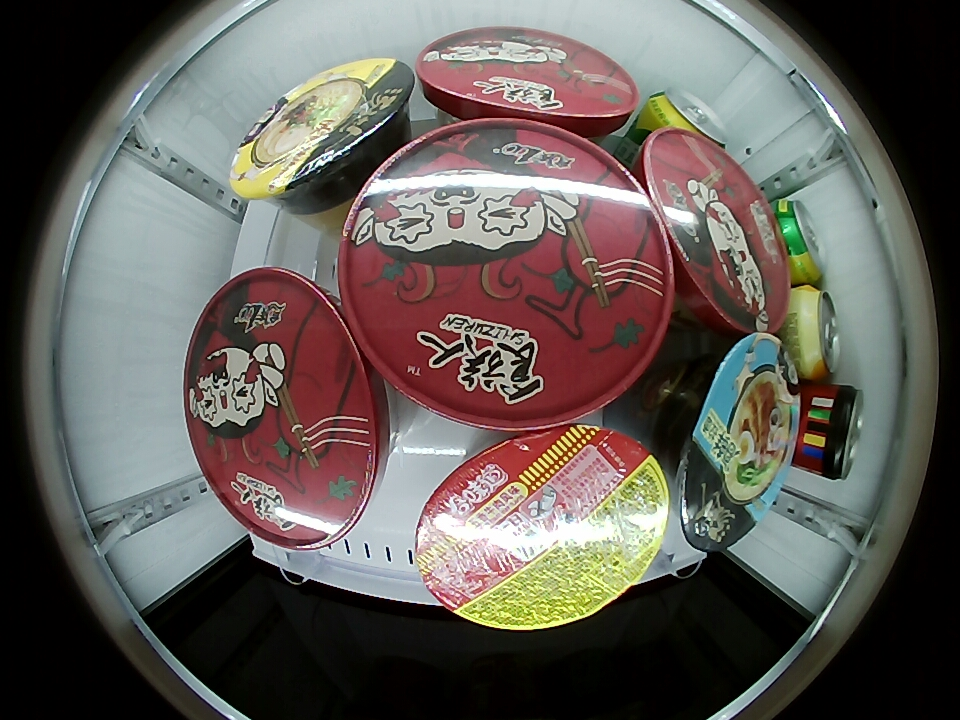heweidao3: (413, 424, 670, 630)
lingdukele: (802, 384, 863, 482)
mangguoxiaolao: (789, 286, 842, 380)
suanlafen: (339, 116, 677, 430), (184, 268, 385, 549), (637, 129, 789, 335), (415, 24, 639, 137)
tangdaren2: (230, 55, 416, 205)
tangdaren3: (669, 333, 801, 557)
xuebi2: (646, 86, 729, 148), (773, 196, 825, 284)
